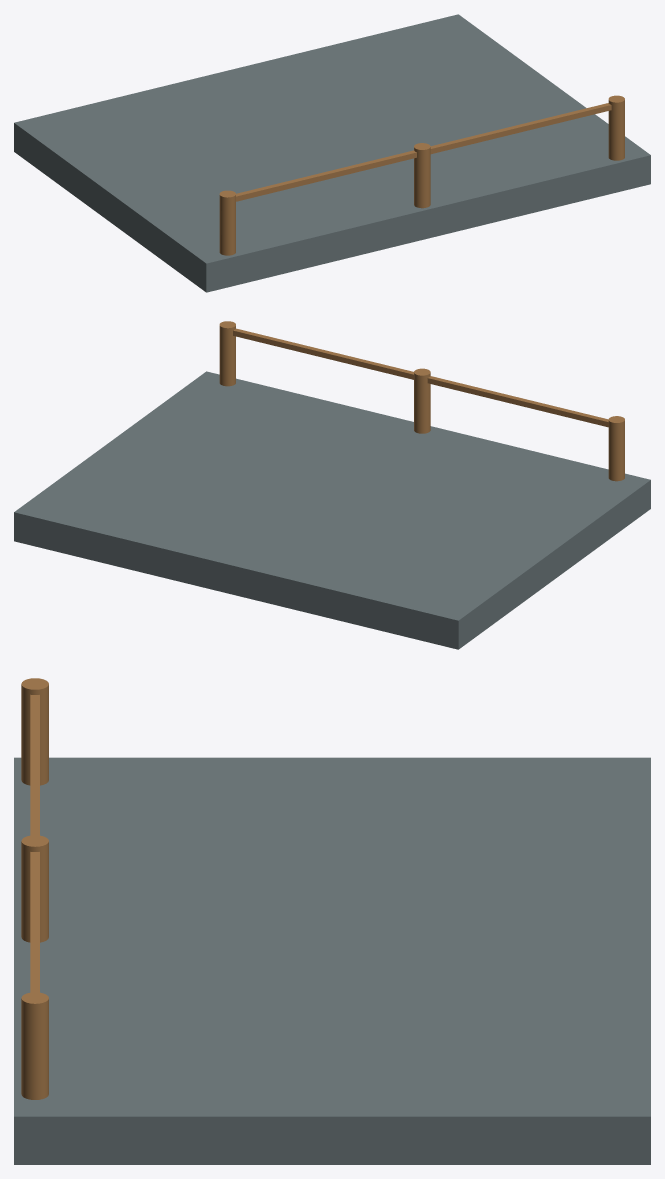
Rendered from quay.lod1.glb.
The picture shows the model from 3 angles, top to bottom: view 1: azimuth 30°, elevation 25°; view 2: azimuth 150°, elevation 25°; view 3: azimuth 270°, elevation 25°; orthographic projection. The views are drawn at different scales.
Visible parts, largest first — view 1: structure; view 2: structure; view 3: structure.
Boxes of the visible parts, left/top/right/bottom form: structure: left=14, top=14, right=650, bottom=292; structure: left=14, top=321, right=650, bottom=649; structure: left=14, top=678, right=650, bottom=1164.
Size of the model in its own units: 8 by 1.5 by 6.
